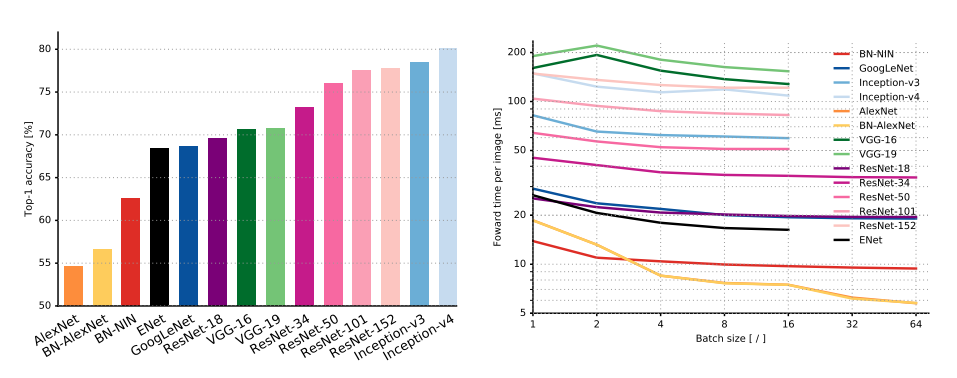

This screenshot's page, from the dashboard's own definition file:
{"tool":"tableau","page":{"name":"Dashboard 1","canvas":[1016,550],"ordinal":0},"visuals":[{"type":"worksheet","title":"Sheet 1","mark":"Line","rows":["Balanced - Non Perturbed"],"cols":["F1"],"box":[0,0,856,316]},{"type":"legend","title":"Sheet 1","param":"[federated.0b02kaf1aqzqf712773081u4tukv].[:Measure Names]","box":[856,0,160,70]},{"type":"legend","title":"Sheet 1","param":"[federated.0b02kaf1aqzqf712773081u4tukv].[sum:Balanced - Non Perturbed:qk]","box":[856,70,160,65]},{"type":"worksheet","title":"Sheet 3","mark":"Automatic","rows":["F1"],"box":[0,316,856,234]}]}

Visuals, with their boxes on the page's 1016x550 design canvas (x1, y1, x2, y2). These are canvas units, not pixel positions in the 957x378 screenshot, which may show the page scaled, cropped or inside an application window:
"Sheet 1" worksheet (Line marks): [left=0, top=0, right=856, bottom=316]
"Sheet 1" legend: [left=856, top=0, right=1016, bottom=70]
"Sheet 1" legend: [left=856, top=70, right=1016, bottom=135]
"Sheet 3" worksheet: [left=0, top=316, right=856, bottom=550]
